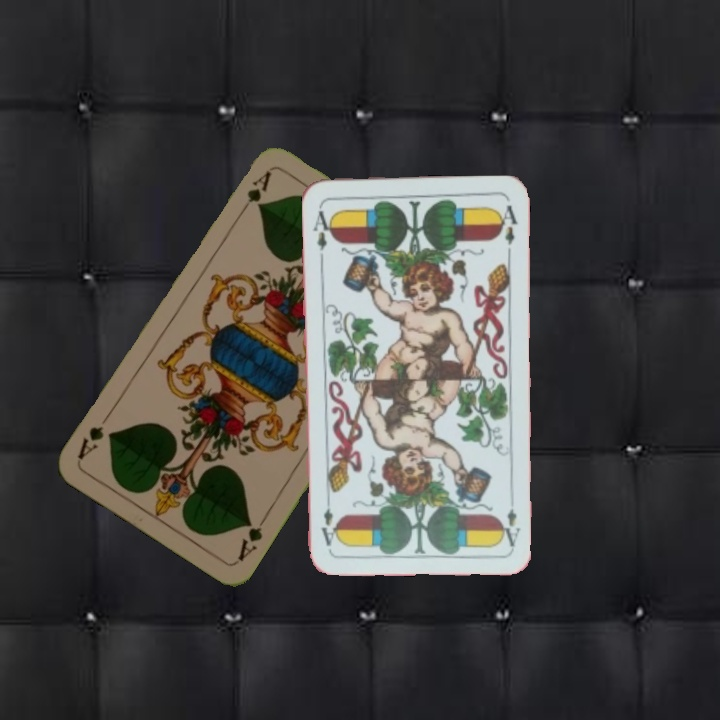EA: (309, 201, 336, 260), (496, 504, 522, 549)
GA: (235, 166, 274, 219), (233, 510, 271, 564)
